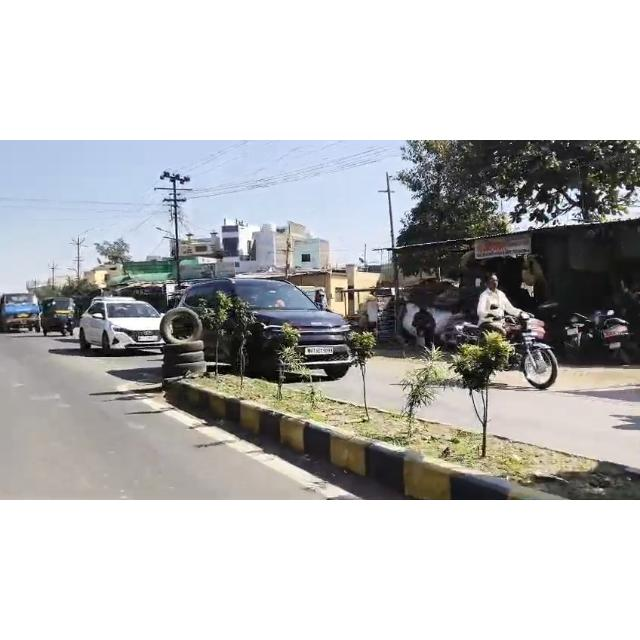car: (75, 300, 172, 358)
